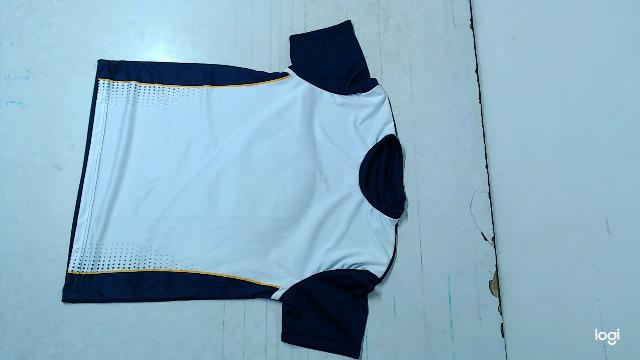new-garment: (62, 21, 406, 358)
